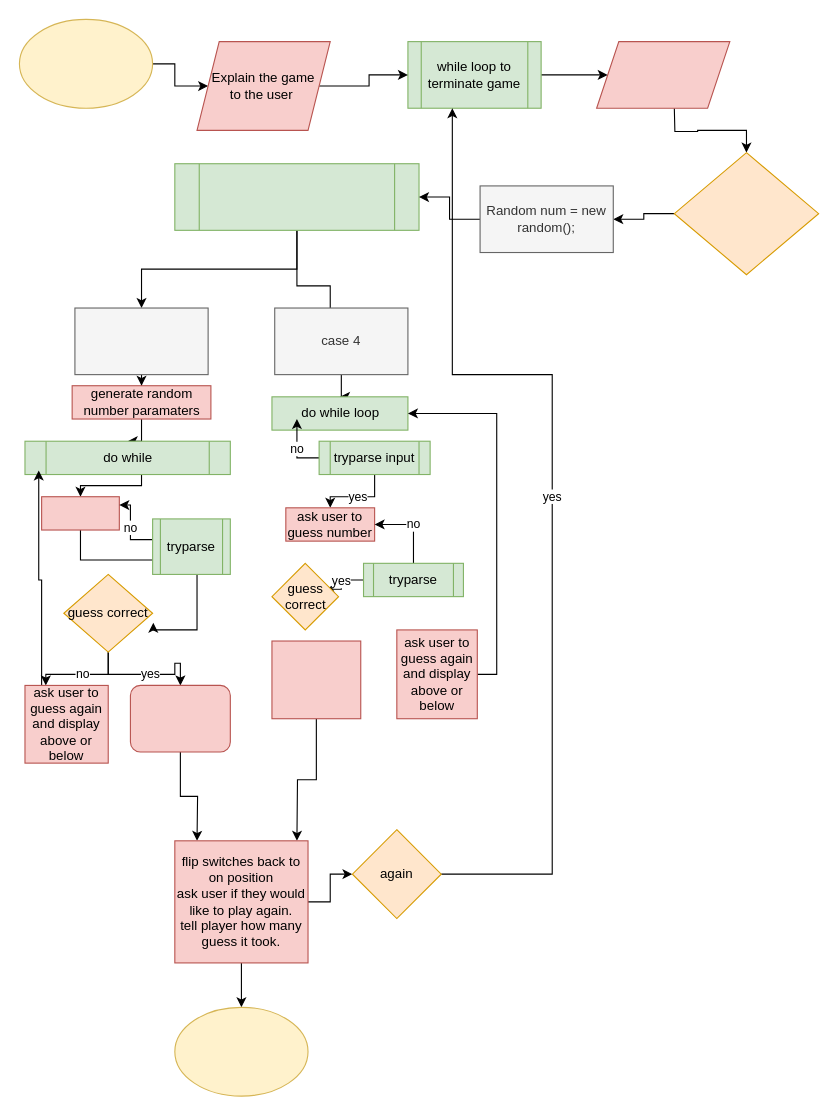
The diagram is 838 pixels wide and 1116 high, and some of its shapes have lost their labels. The centre of each missing label's shape, as x and y in pixels:
"ask user to pick number" goes at (80,513).
"ask user to select dificulty" goes at (663,74).
"case 1-3" goes at (141,341).
"counter++ condition to end do while loop" goes at (179,718).
"counter++; condition to end do while loop" goes at (316,679).
"end game and say good bye" goes at (241,1051).
"start" goes at (85,63).
"switch case based on difficulty selected" goes at (296,196).
"user picks between difficulty levels" goes at (746,213).
